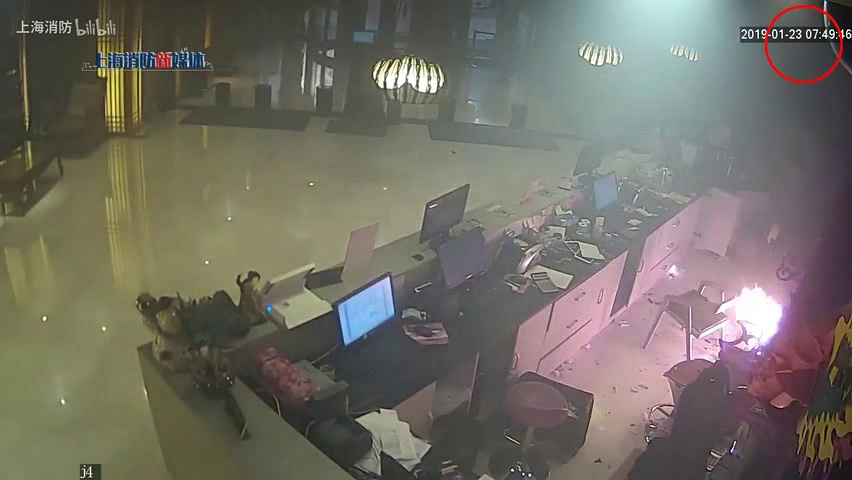fire: (721, 281, 785, 354)
